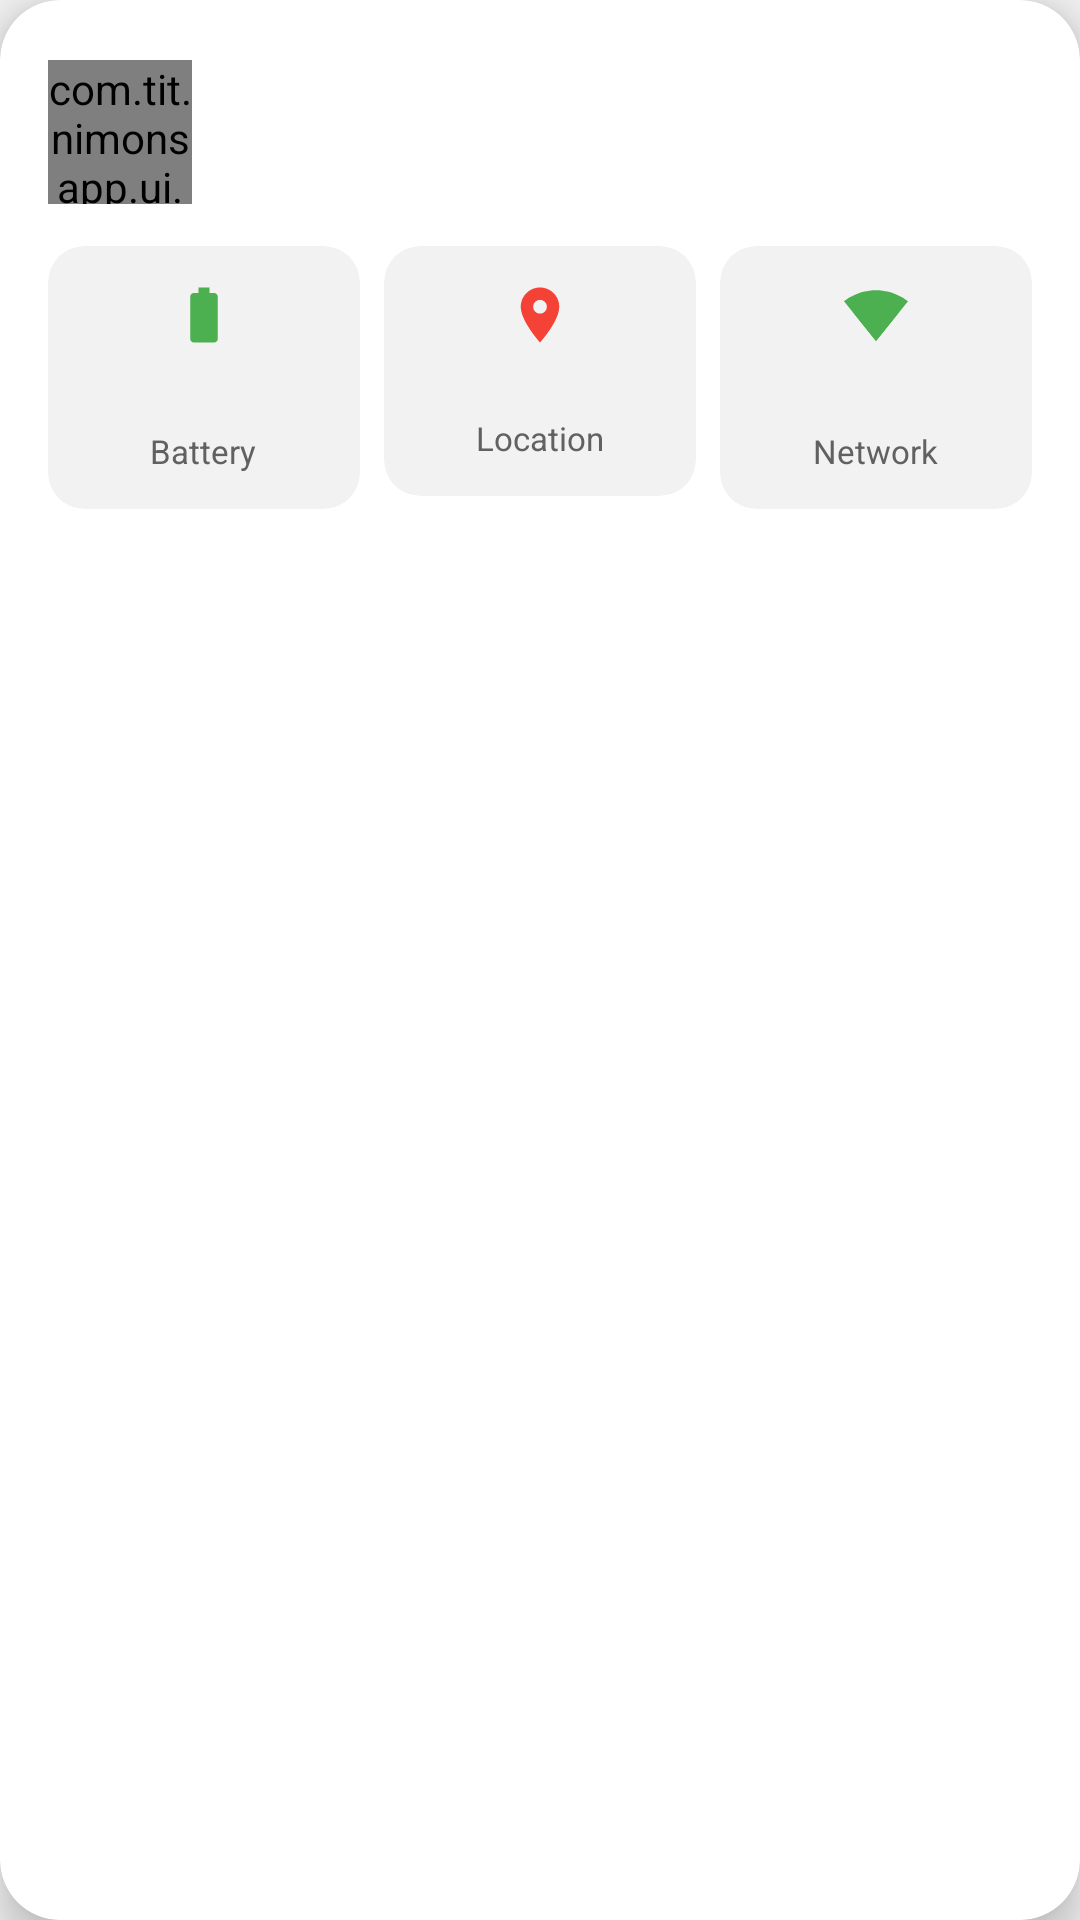

Locate icon controls on the screen. Image size 1080px×1920px, boxes as (x1, y1, x2, y2).
wifi: (844, 290, 908, 341)
